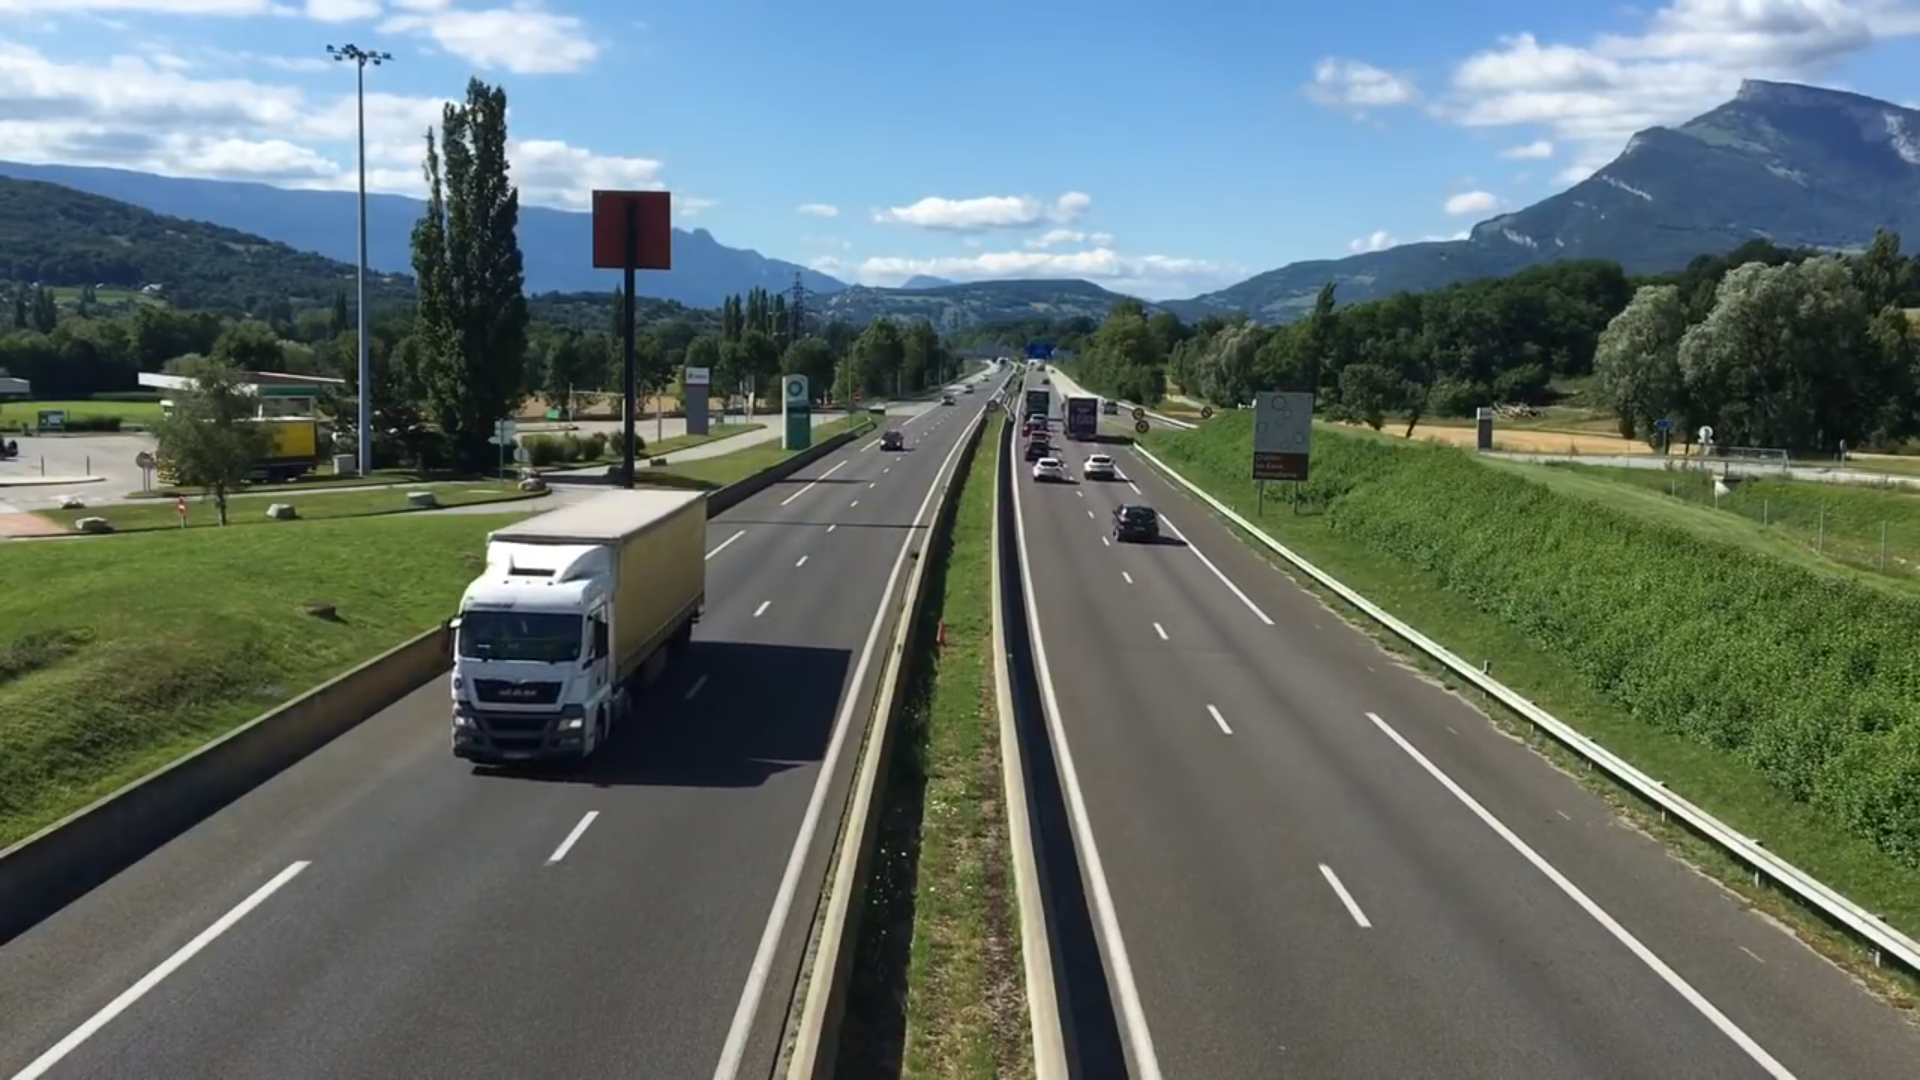HeavyVehicle: (444, 484, 719, 783)
